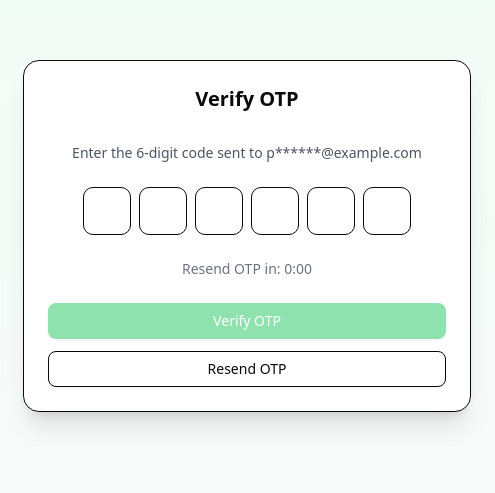
Booking OTP verification › shows the resend wait message after a 429 rate limit
Click the button "Resend OTP". click: (247,369)
box: [48,351,446,387]
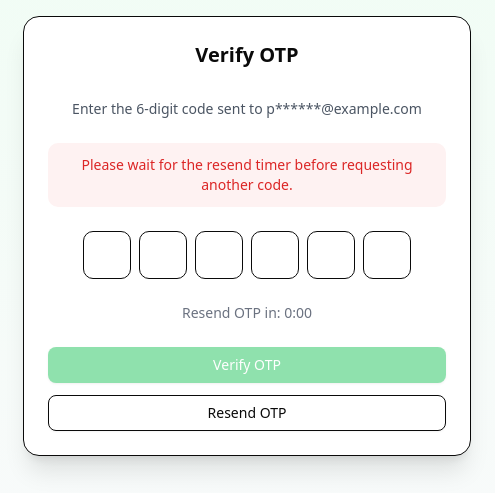
expect the message shows "Please wait for the resend timer": met, box [81,155,413,194]
